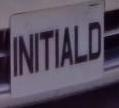1: (47, 26, 60, 75), (11, 32, 20, 80)
A: (59, 21, 74, 71)
D: (87, 13, 103, 70)
L: (73, 20, 88, 65)
N: (17, 28, 36, 82)
T: (37, 27, 55, 76)
